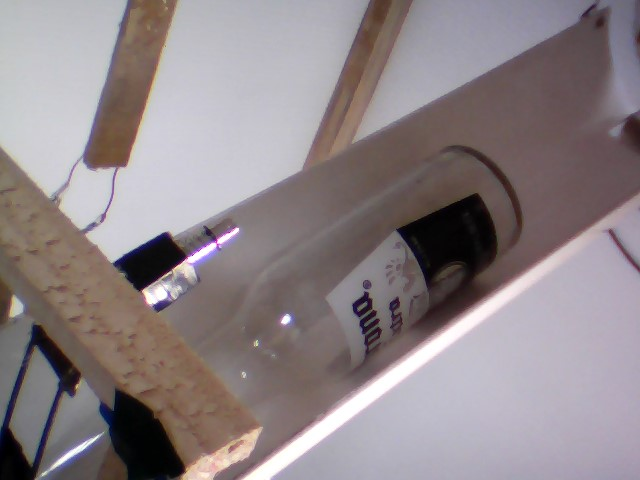vidrio: (173, 135, 536, 410)
